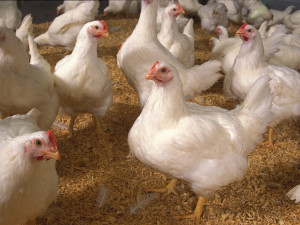Healthy: (125, 61, 268, 208), (2, 107, 74, 219), (51, 17, 119, 117)
